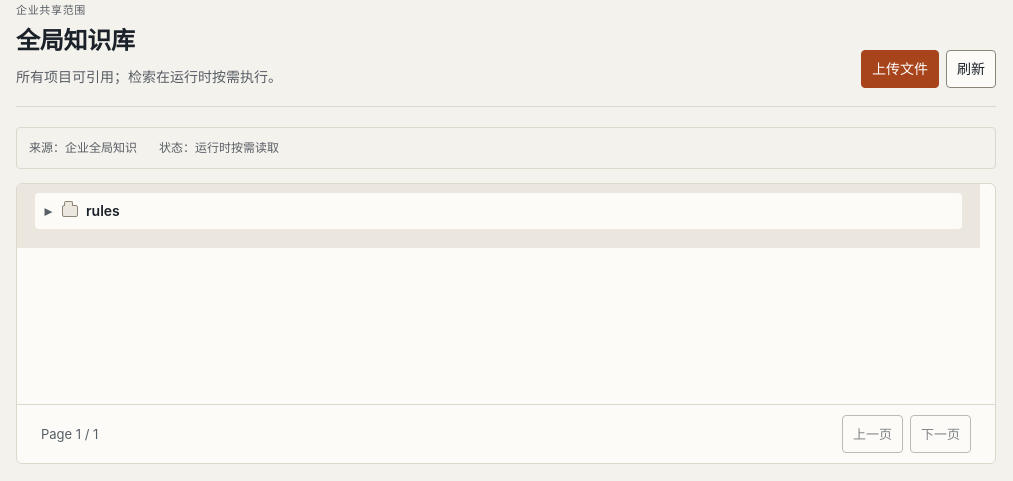
GlobalKnowledgePage › keeps file operations on file rows and directories non-operable
Click the button with aria-label "展开 rules" at (103, 210), box 35,193 -> 962,229
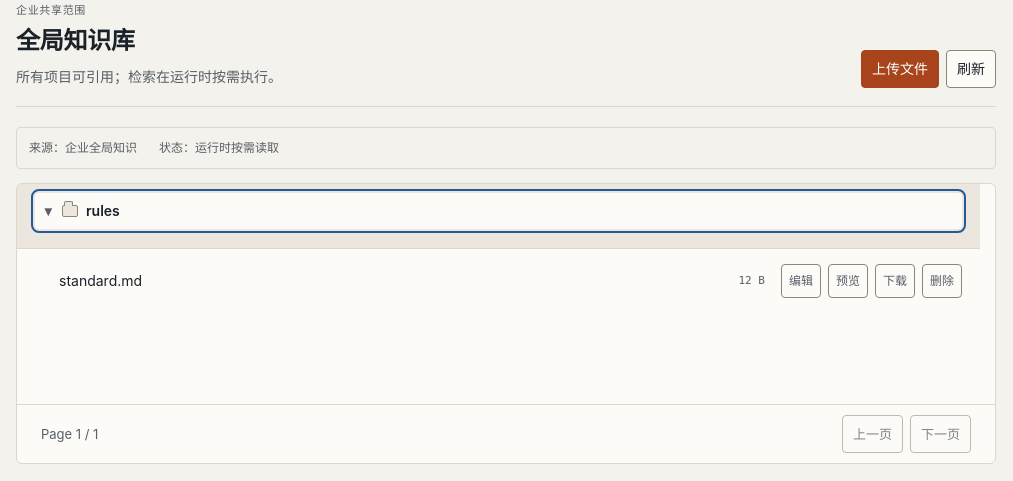
Result: the button with aria-label "编辑 standard.md" is shown at 781,264 -> 821,298
Result: the button with aria-label "预览 standard.md" is shown at 828,264 -> 868,298
Result: the button with aria-label "下载 standard.md" is shown at 875,264 -> 915,298
